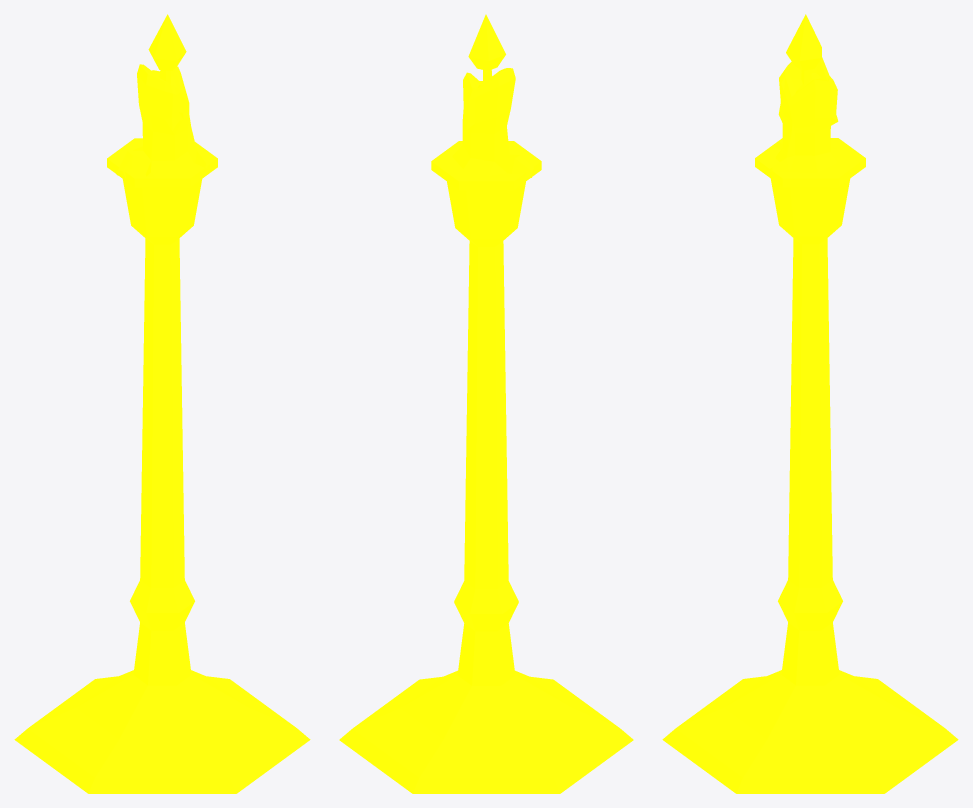
File: candle-holder-tall-c-lit-christmas.glb
The picture shows the model from 3 angles, left to right: view 1: azimuth 30°, elevation 25°; view 2: azimuth 150°, elevation 25°; view 3: azimuth 270°, elevation 25°; orthographic projection.
Parts seen in each view (by area): view 1: candle_holder_tall_c_lit_christmas; view 2: candle_holder_tall_c_lit_christmas; view 3: candle_holder_tall_c_lit_christmas.
Boxes of the visible parts, x1,y1,x2,y2 form: candle_holder_tall_c_lit_christmas: (14,14,310,793); candle_holder_tall_c_lit_christmas: (339,14,633,793); candle_holder_tall_c_lit_christmas: (662,14,958,793).
Size of the model in its own units: 0.1644 by 0.5138 by 0.1898.
Materials: 2 (2 with a texture image).
